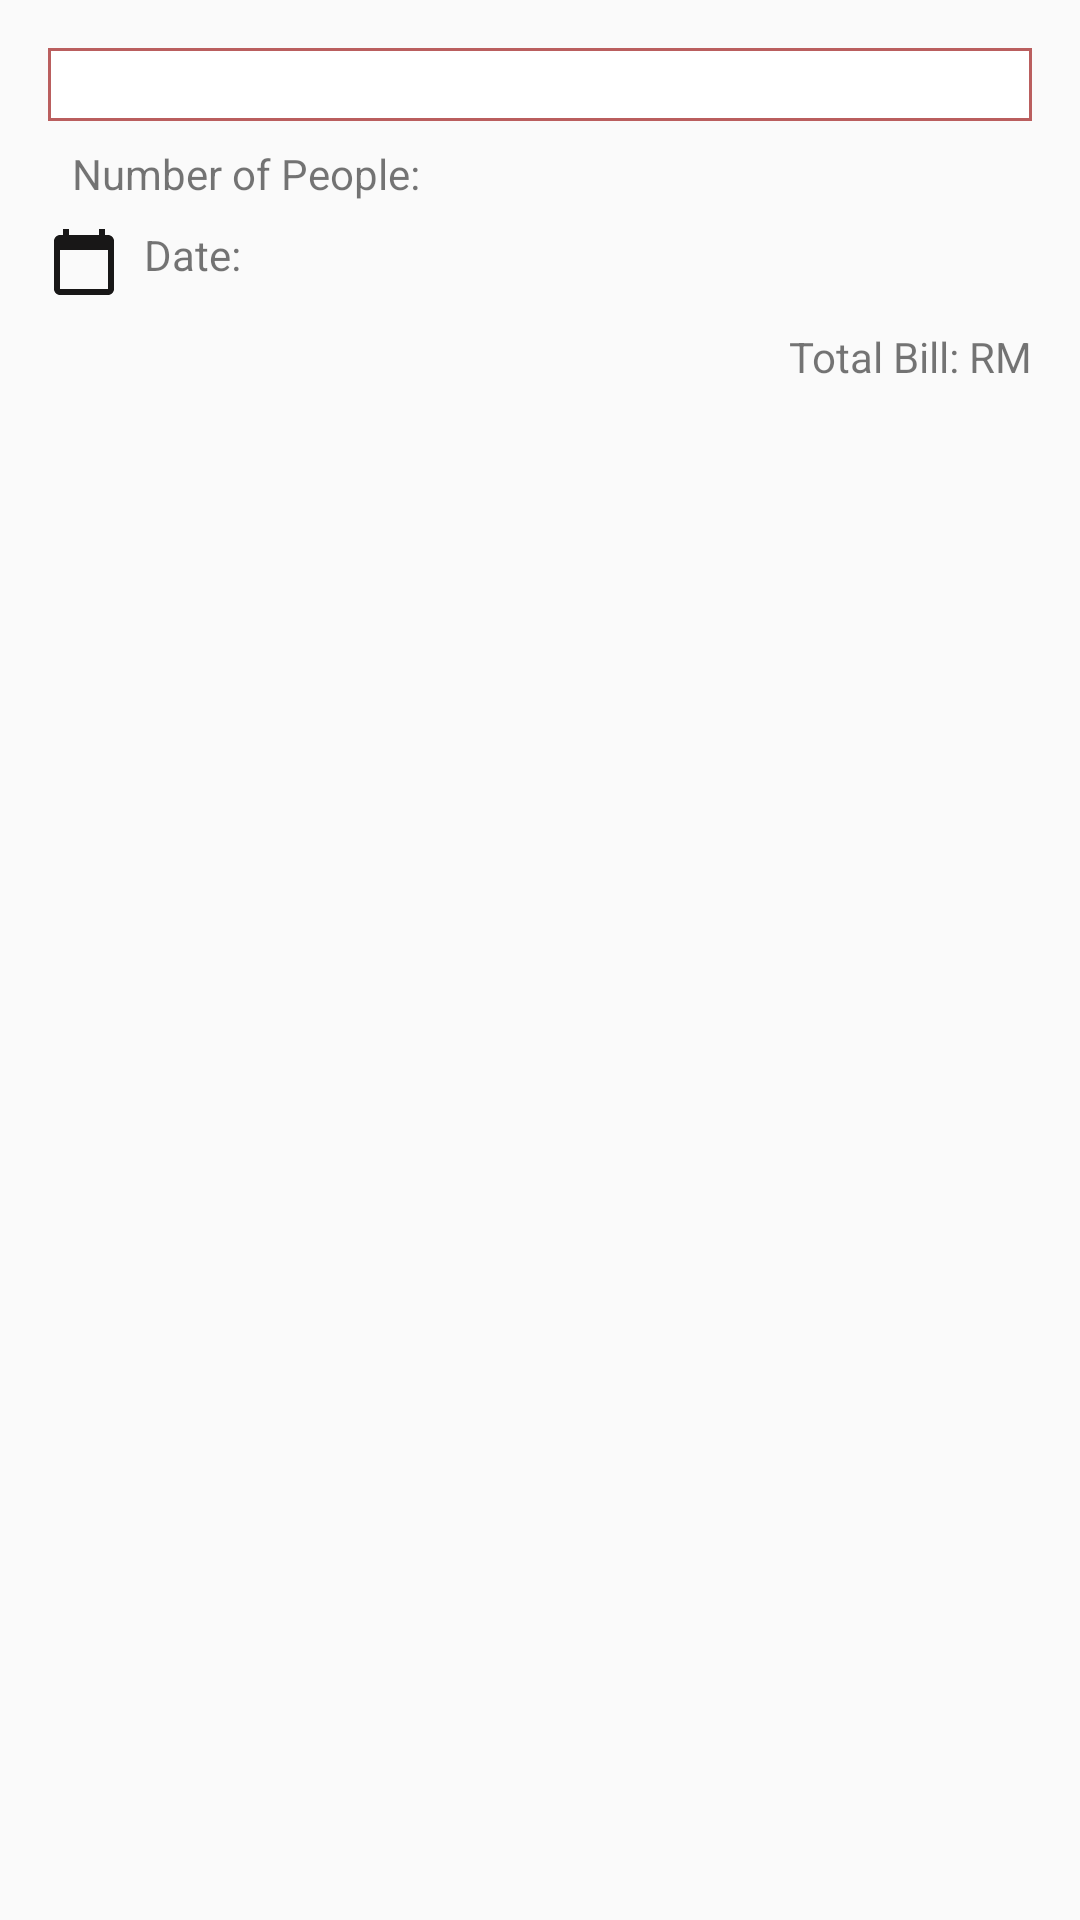

Named icons in this screenshot (1080x1920) and their centers, (x,y):
calendar: (84,262)
